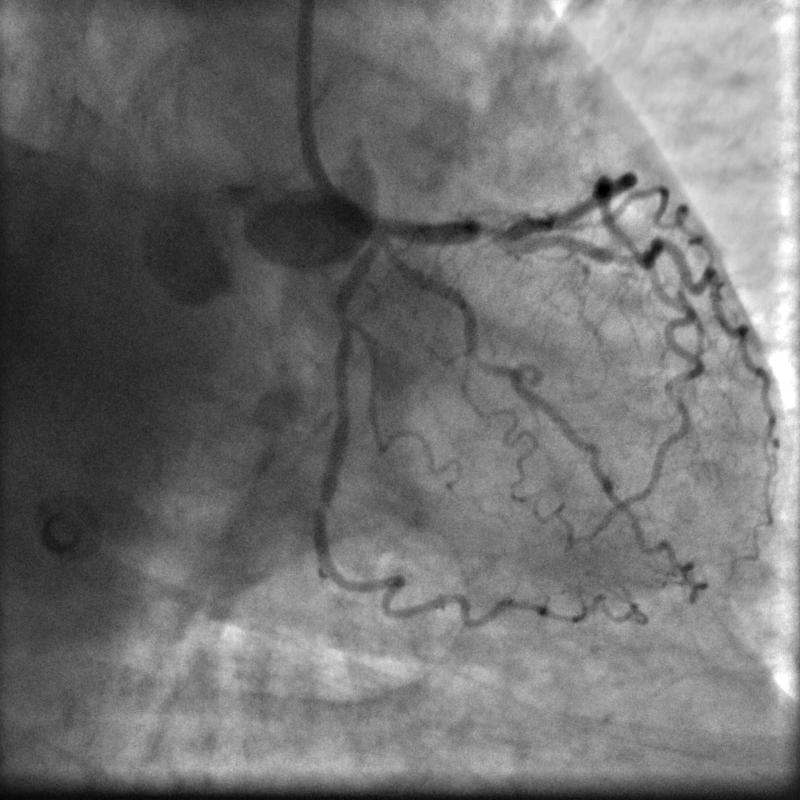Stenosis: (472, 215, 512, 248)
